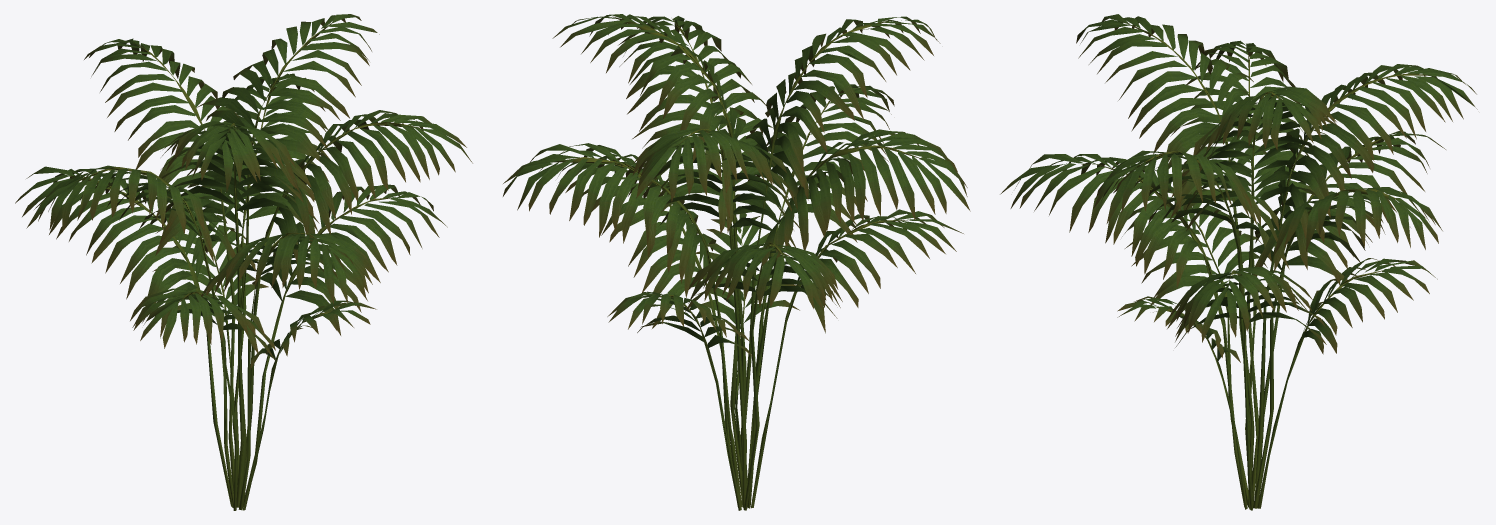
The model's file is fosterianalowpoly.fbx.
3 views of the same model, side by side, from view 1: azimuth 30°, elevation 25°; view 2: azimuth 150°, elevation 25°; view 3: azimuth 270°, elevation 25° (orthographic). The views are drawn at different scales.
Parts seen in each view (by area): view 1: Howea_f__A001; view 2: Howea_f__A001; view 3: Howea_f__A001.
Boxes of the visible parts, x1,y1,x2,y2 form: Howea_f__A001: (15, 14, 472, 510); Howea_f__A001: (503, 14, 970, 510); Howea_f__A001: (1000, 14, 1477, 510).
Size of the model in its own units: 16710 by 17929 by 16883.
Materials: 2 (2 with a texture image).
